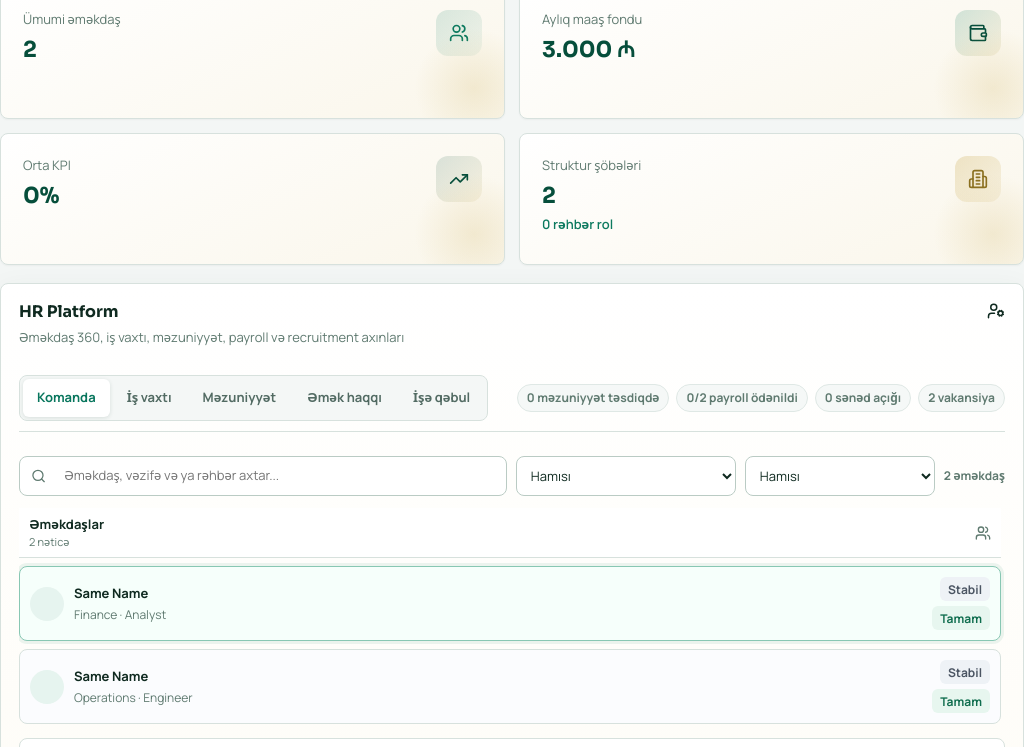
Scenario: selects and edits the intended employee despite an identical display name
Later steps or results of the test are not shown.
Click the 2nd button with class "hr-person-row" at point(47, 687), box [19,649,1001,724]
(page scrolled)
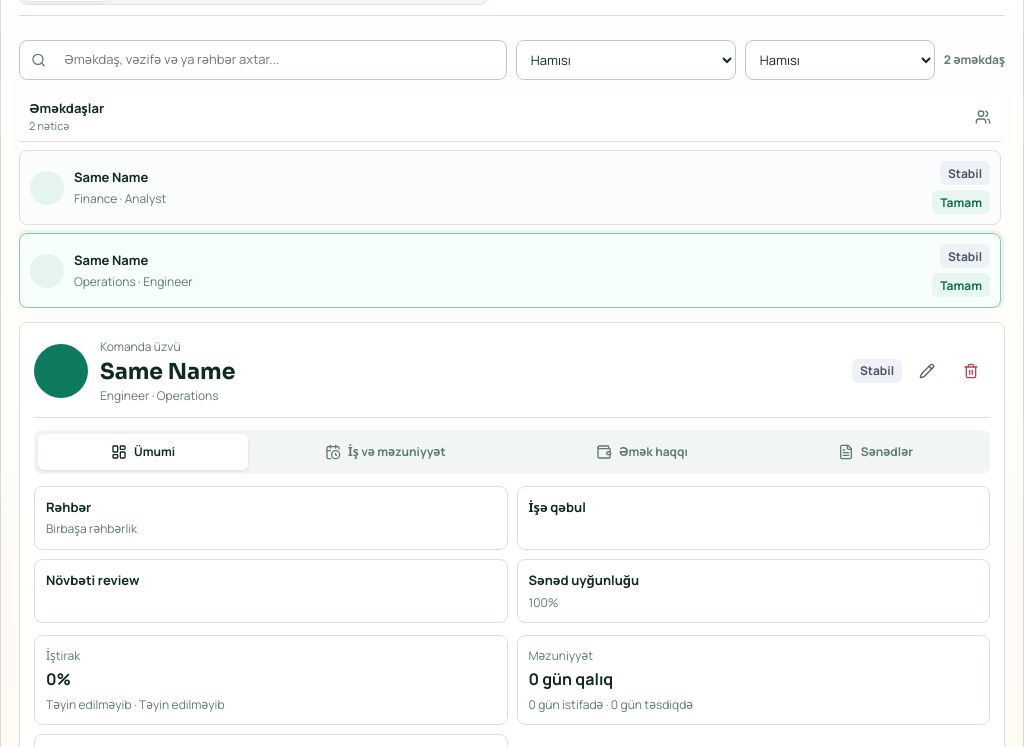
Expected: the element with class "hr-profile-head" shows "Engineer", [100,387,149,404]
